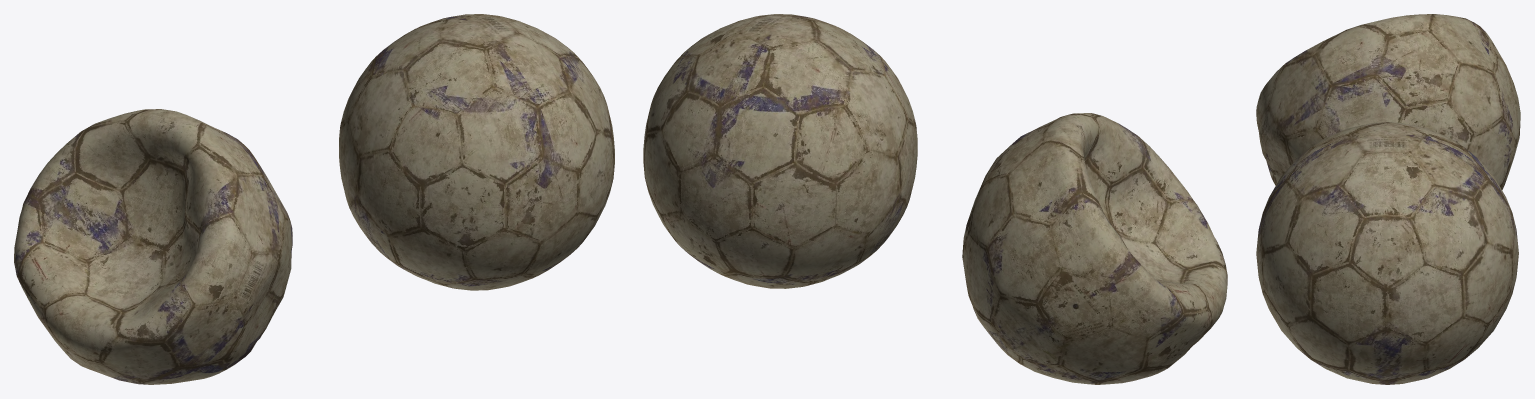
File: football-polyhaven-worn.glb
The picture shows the model from 3 angles, left to right: view 1: azimuth 30°, elevation 25°; view 2: azimuth 150°, elevation 25°; view 3: azimuth 270°, elevation 25°; orthographic projection. The views are drawn at different scales.
Visible parts, largest first — view 1: football_inflated, football_deflated; view 2: football_inflated, football_deflated; view 3: football_inflated, football_deflated.
Boxes of the visible parts, x1=… form: football_inflated: x1=339, y1=14, x2=614, y2=290; football_deflated: x1=14, y1=109, x2=292, y2=384; football_inflated: x1=643, y1=14, x2=917, y2=288; football_deflated: x1=962, y1=113, x2=1227, y2=384; football_inflated: x1=1256, y1=122, x2=1518, y2=384; football_deflated: x1=1256, y1=14, x2=1520, y2=189.
Size of the model in its own units: 0.5089 by 0.2219 by 0.2222.
1 material, 1 textured.
